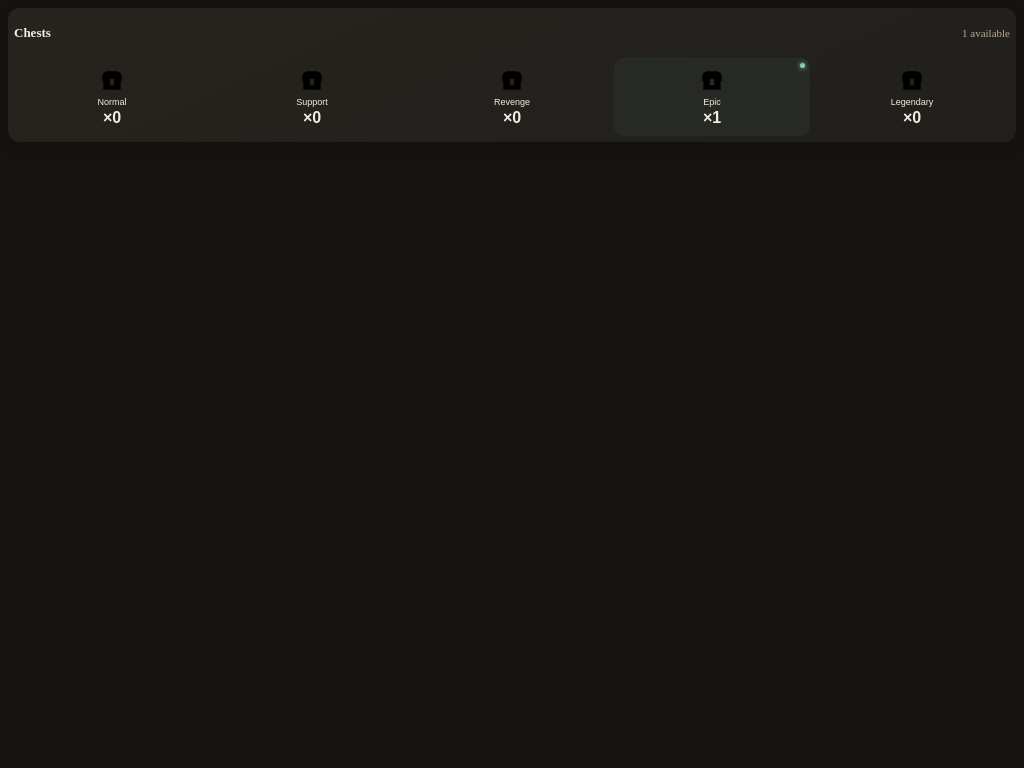
Test: registered opponents suppress the dummy button even while choosing champions
Click the button named "Epic chest, 1 available" at (712,97), box [614,58,810,136]
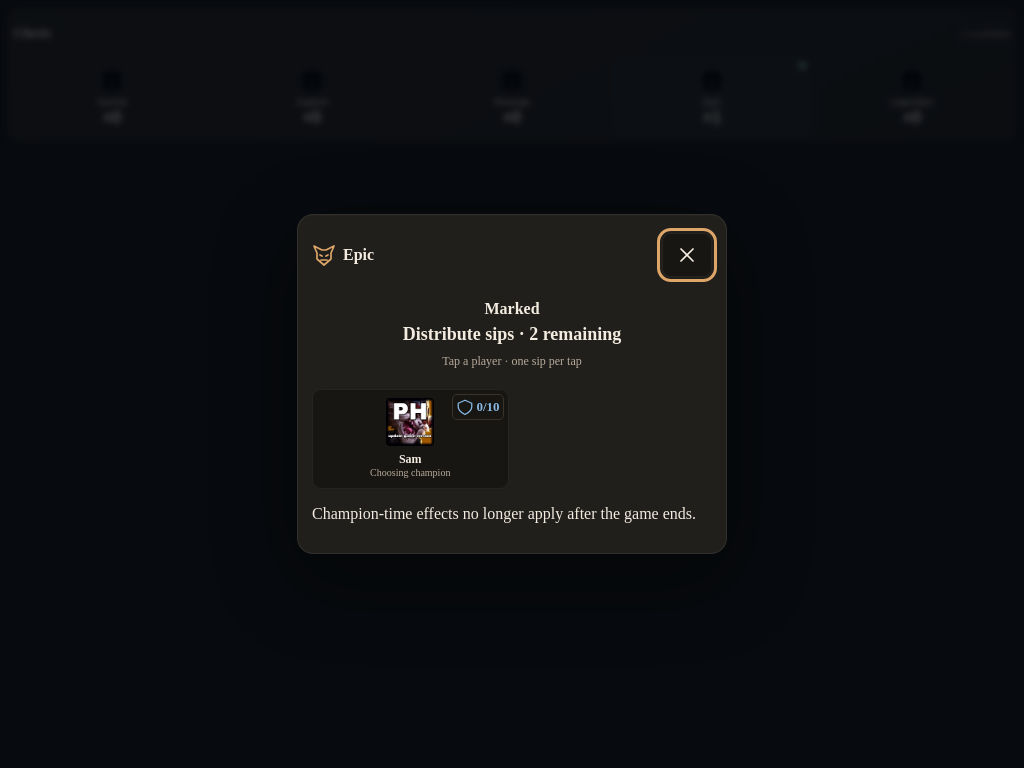
Now the button named "Give 1 sips to Sam. Shield 0/10." is enabled, box [312,389,508,489]
